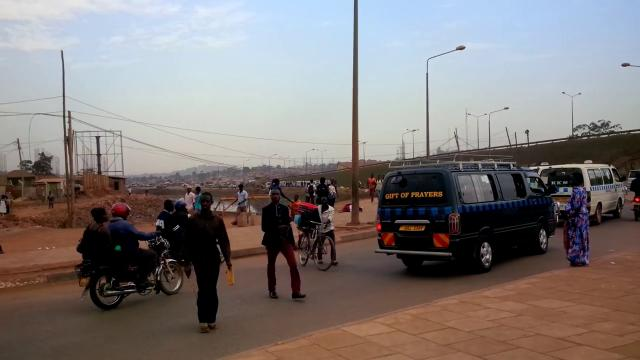motorcycle: (72, 225, 185, 304)
van: (373, 154, 557, 275), (540, 157, 626, 219)
